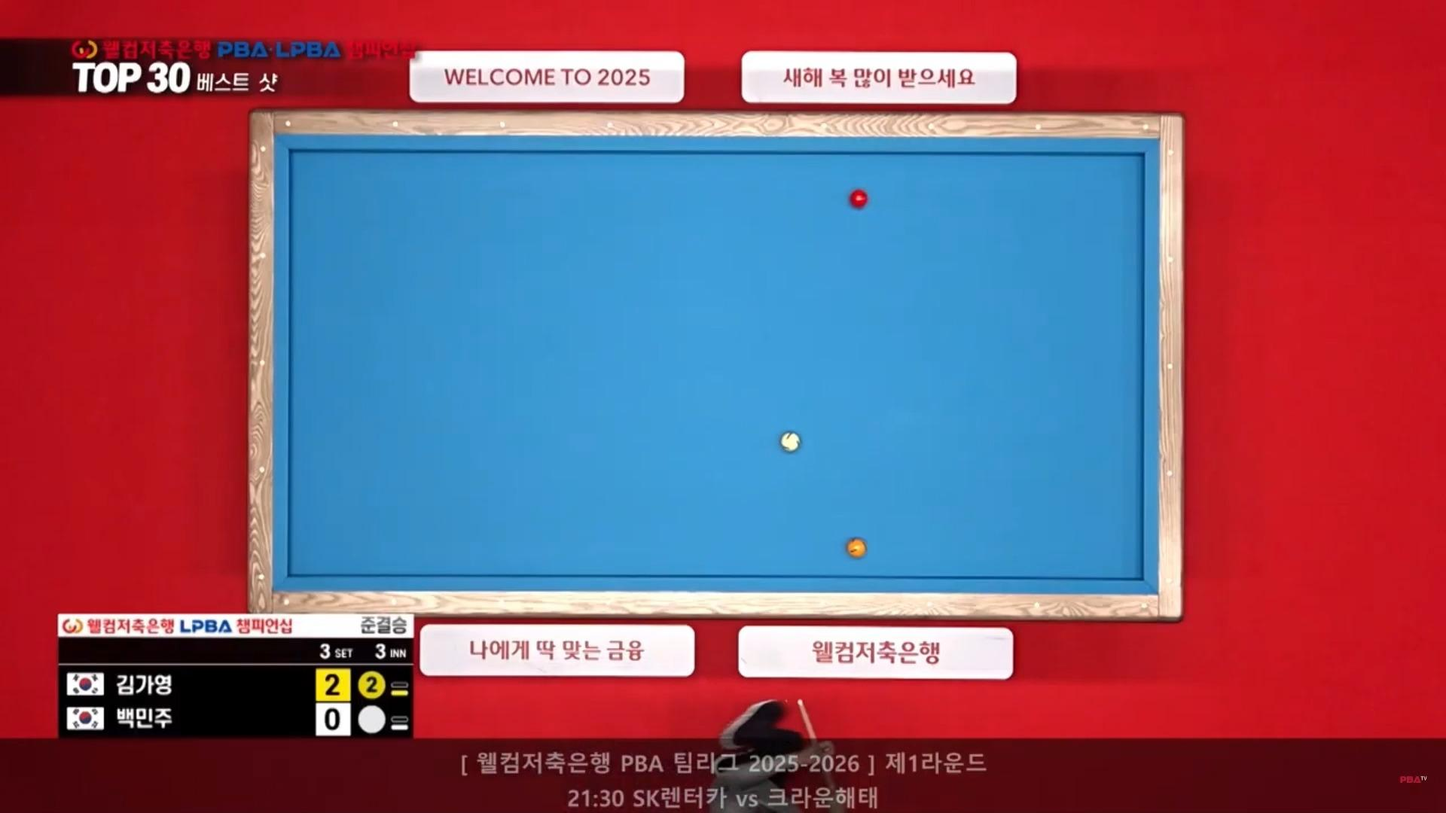Red: (849, 189, 873, 208)
White: (780, 433, 804, 453)
billiard-ball-Yellow: (845, 536, 869, 559)
